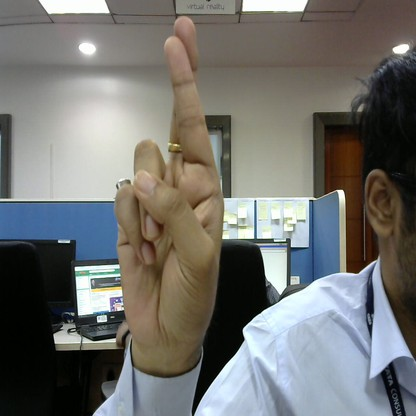r: (109, 15, 229, 360)
